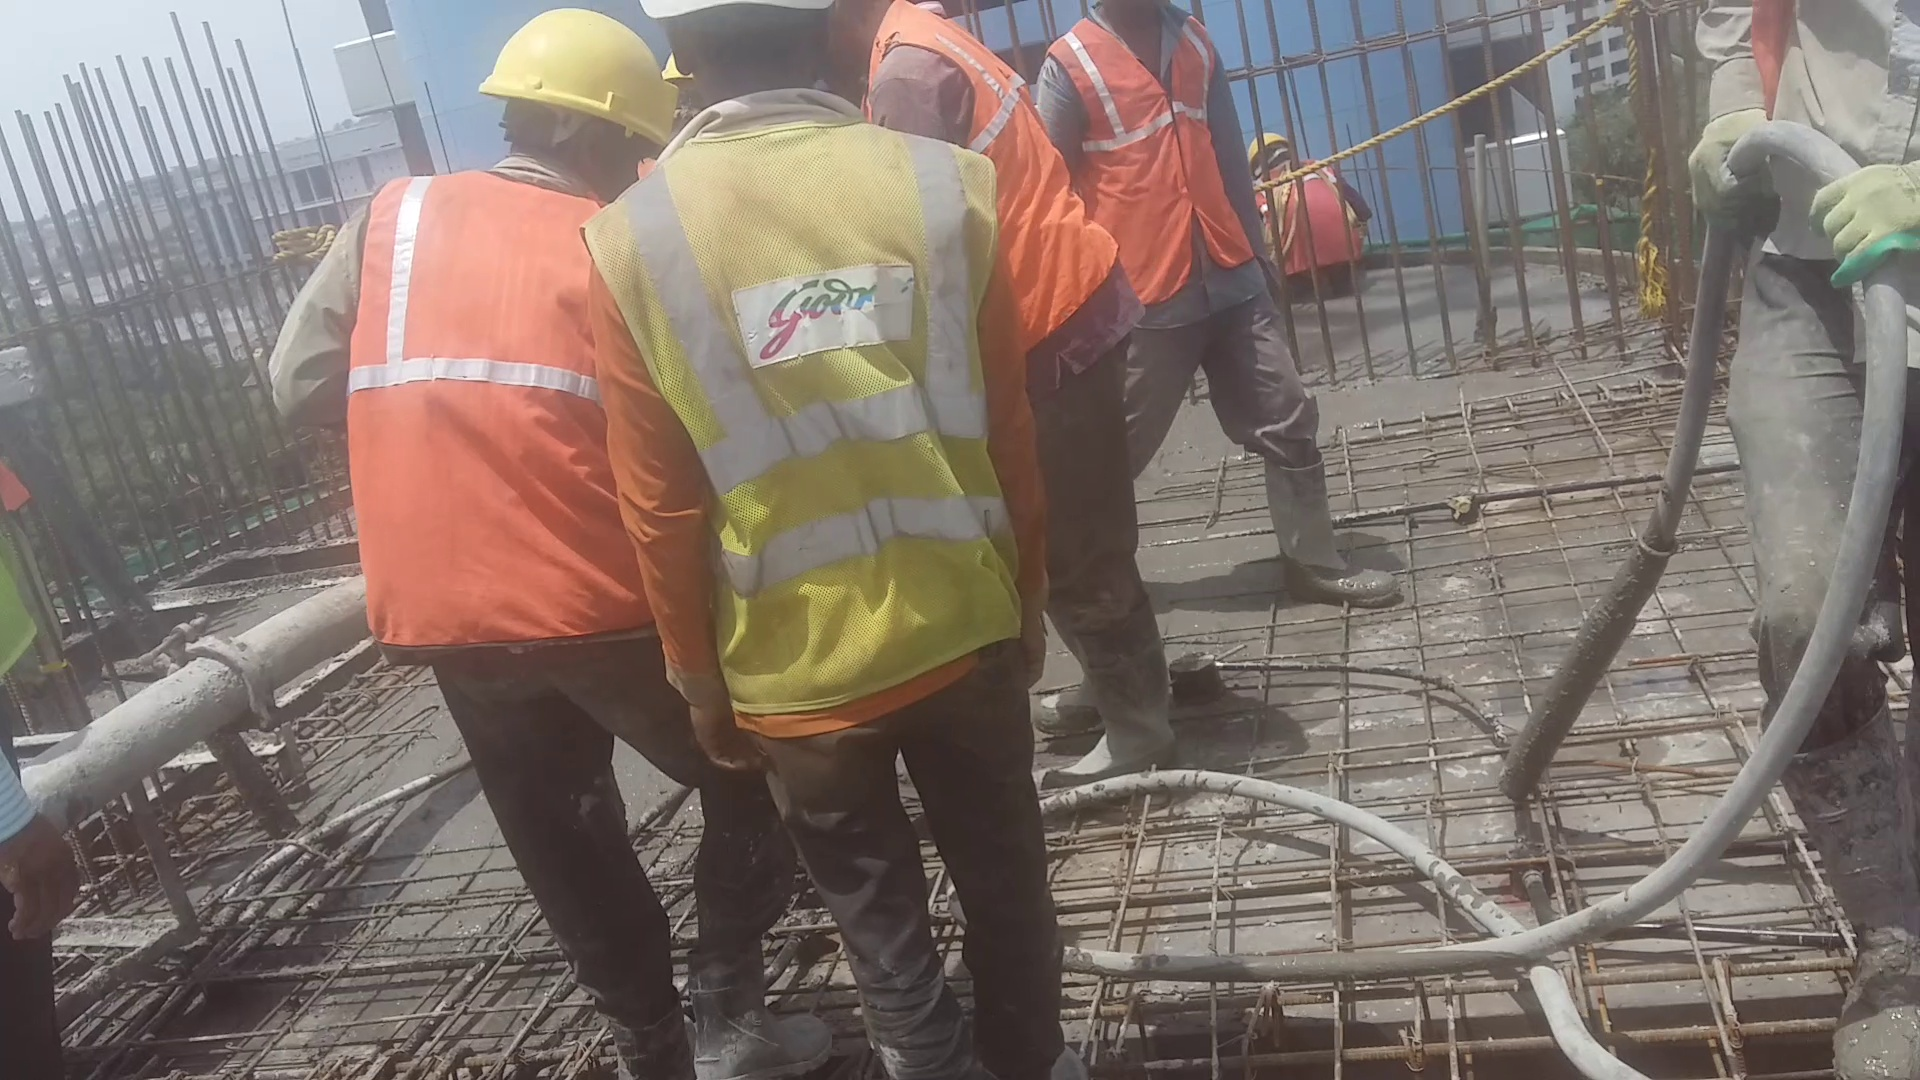SAFE: (353, 7, 622, 665)
